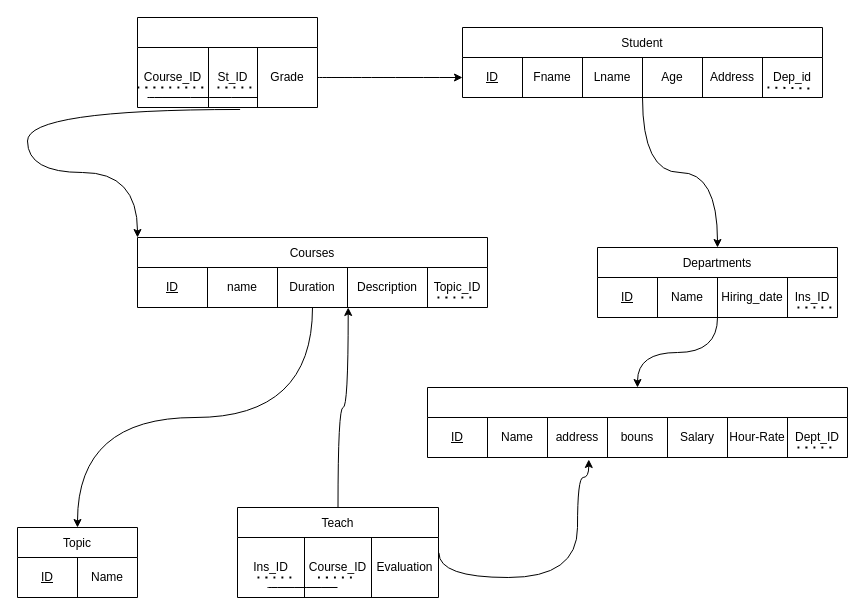
This 865x615 diagram has some shape labels left out. The shapes that lost their labels are listed below. From the top down, each one's box as (x1, y1, x2, y2) in pixels, then its label:
(136, 16, 318, 108): Student_course
(426, 386, 848, 458): Instructor
